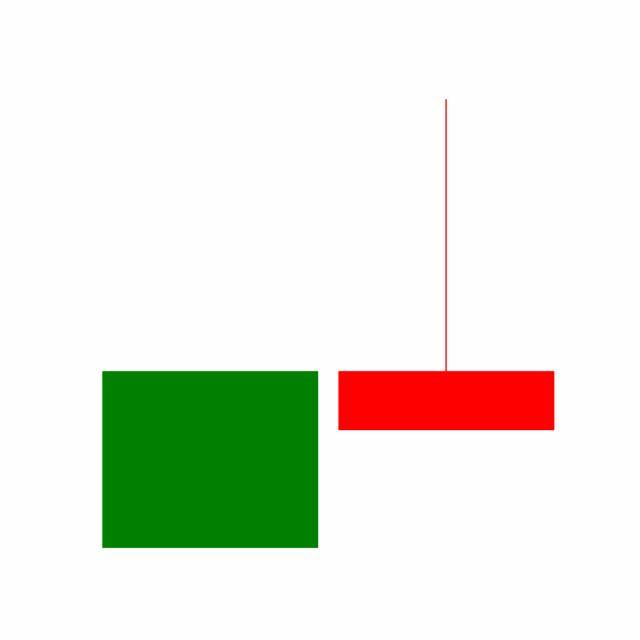Gravestone Doji: (328, 97, 566, 435)
